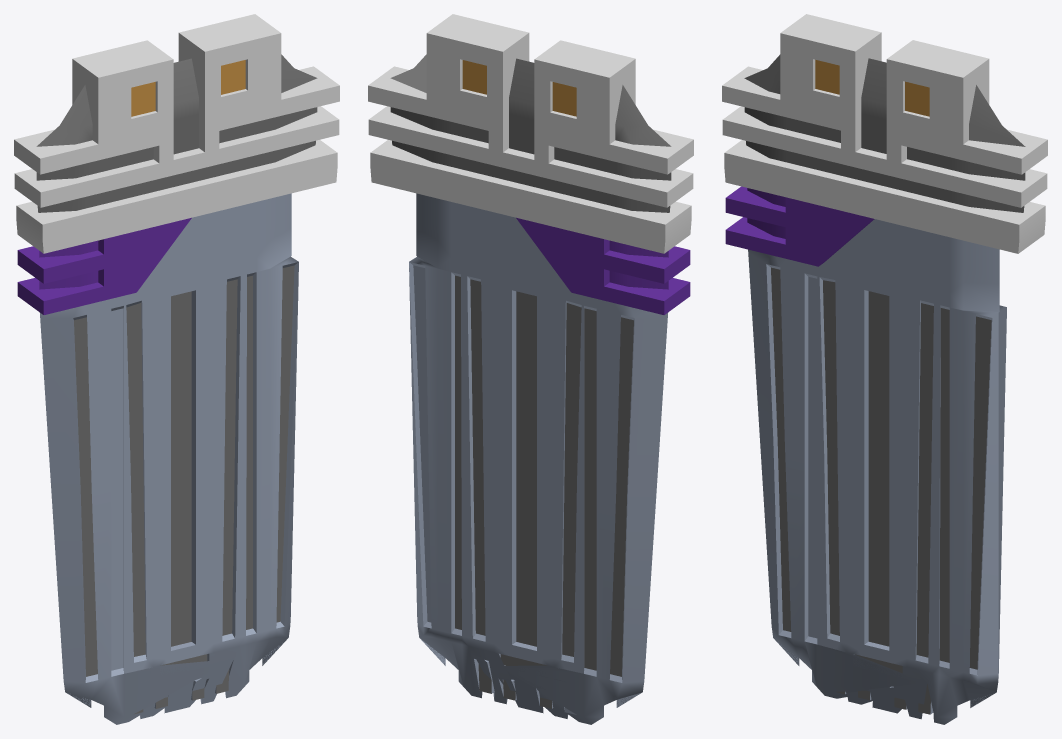
Rendered from Chaves.fbx.
3 renders of one model, left to right at view 1: azimuth 30°, elevation 25°; view 2: azimuth 150°, elevation 25°; view 3: azimuth 330°, elevation 25°, orthographic.
Visible parts, largest first — view 1: pCube3; view 2: pCube3; view 3: pCube3.
Part boxes in pixels (bbox=[...]): pCube3: bbox=[14, 14, 339, 724]; pCube3: bbox=[368, 14, 693, 724]; pCube3: bbox=[722, 14, 1047, 724].
Bounding box in the file's own units: 3.05 × 6.46 × 0.4616.
